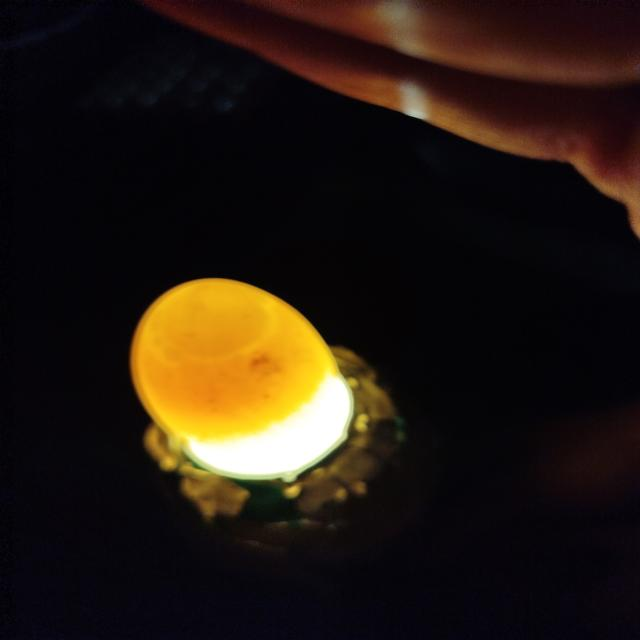Camara de Ar: (141, 278, 275, 363)
